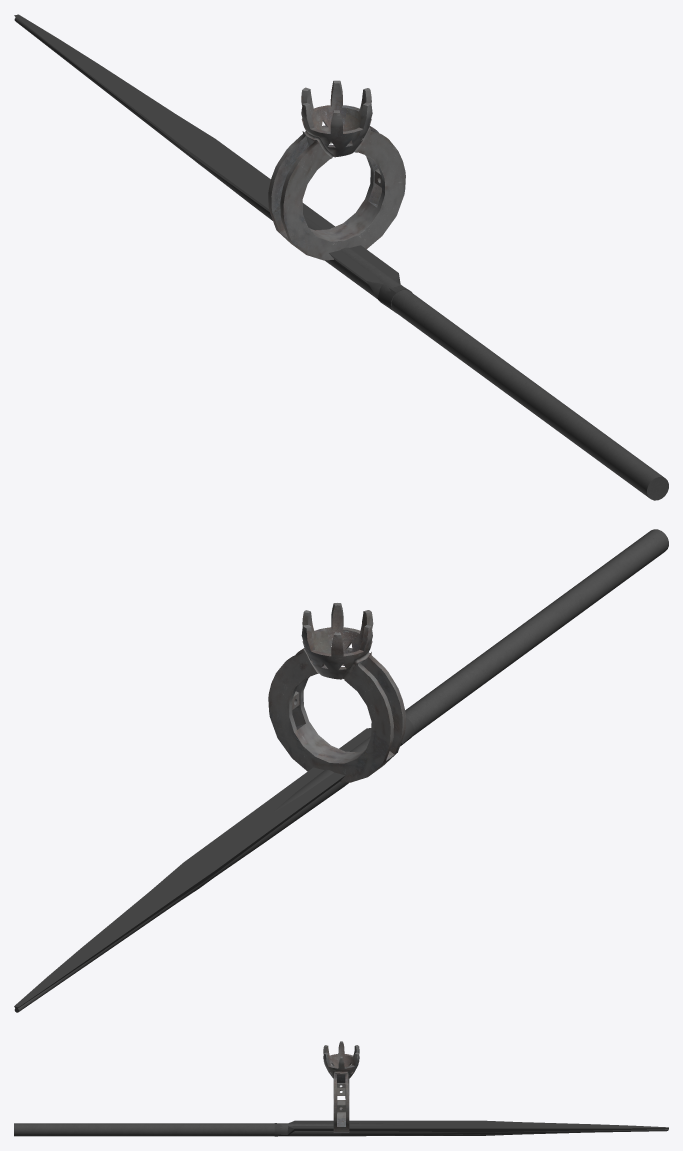
The picture shows the model from 3 angles, top to bottom: view 1: azimuth 30°, elevation 25°; view 2: azimuth 150°, elevation 25°; view 3: azimuth 270°, elevation 25°; orthographic projection. The views are drawn at different scales.
Visible parts, largest first — view 1: 402_SanJiaoCuo, 402_TiaoZheng_YinJie, 402_YuanCuo; view 2: 402_SanJiaoCuo, 402_TiaoZheng_YinJie, 402_YuanCuo; view 3: 402_YuanCuo, 402_SanJiaoCuo, 402_TiaoZheng_YinJie.
Boxes of the visible parts, <box> form: 402_SanJiaoCuo: <box>14,14,668,500</box>; 402_TiaoZheng_YinJie: <box>268,80,405,260</box>; 402_YuanCuo: <box>14,17,663,496</box>; 402_SanJiaoCuo: <box>14,529,668,1009</box>; 402_TiaoZheng_YinJie: <box>268,603,405,782</box>; 402_YuanCuo: <box>14,529,668,1012</box>; 402_YuanCuo: <box>14,1123,668,1136</box>; 402_SanJiaoCuo: <box>14,1120,668,1136</box>; 402_TiaoZheng_YinJie: <box>323,1041,359,1132</box>.
Size of the model in its own units: 2.21 by 2.91 by 20.03.
2 materials, 2 textured.
